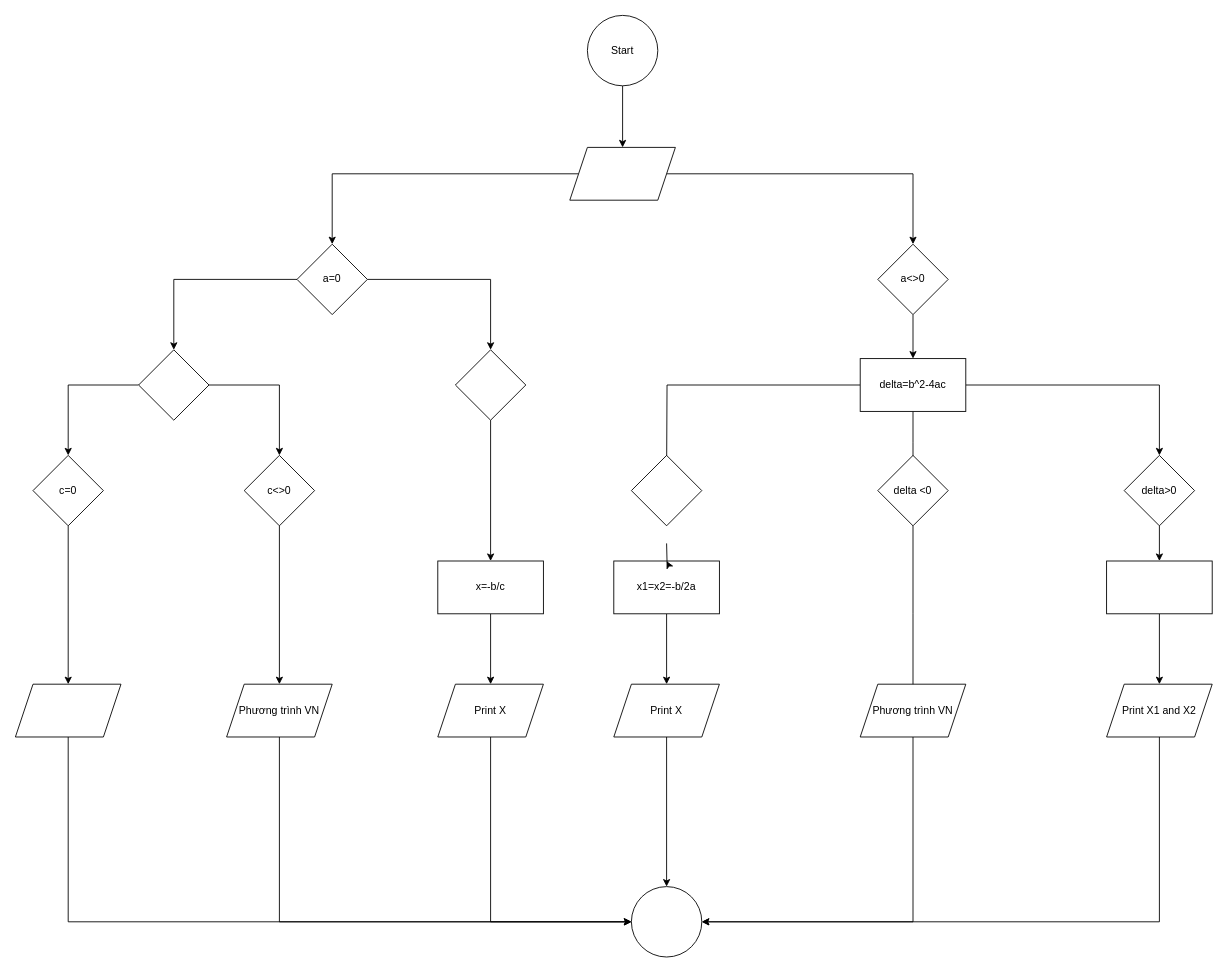
This 1228x972 diagram has some shape labels left out. The centre of each missing label's shape, as x and y in pixels:
b<>0: point (490, 384)
b=0: point (173, 384)
delta=0: point (666, 490)
End: point (666, 921)
Nhập a,b,c: point (622, 173)
Phương trình VSN: point (68, 710)
x1=(-b+sqrt(delta))/2 x2=(-(b-sqrt(delta))/2: point (1159, 587)
